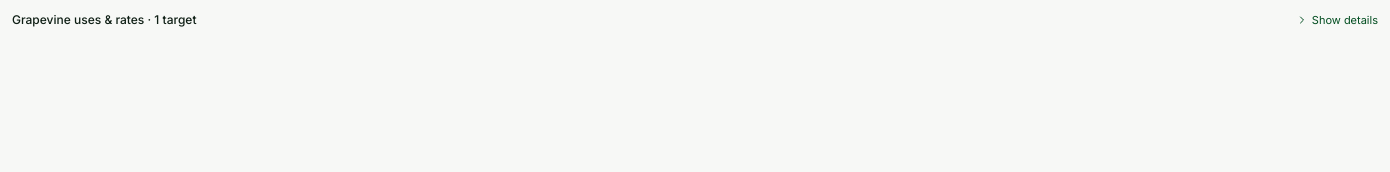
Scenario: grapevine-only presentation › does not show other crops in the normal add flow
Click the button "Show details". click: {"x": 1337, "y": 20}
box: [1296,12,1378,28]
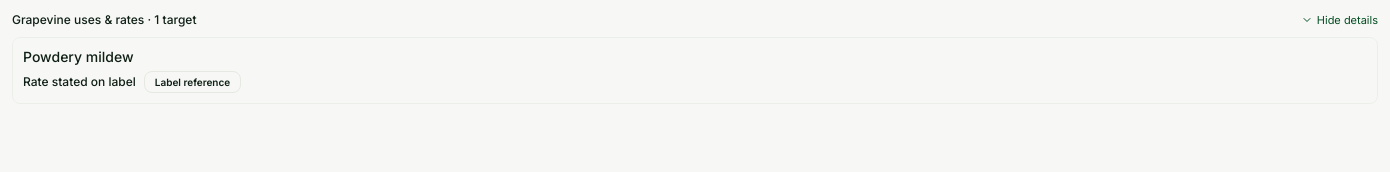
Expected: the text "Powdery mildew" is shown, [23,48,134,65]
